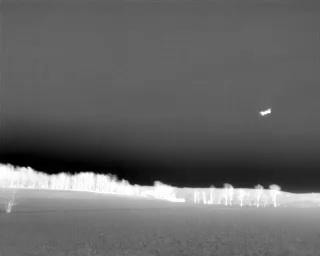DRONE: (255, 104, 276, 122)
